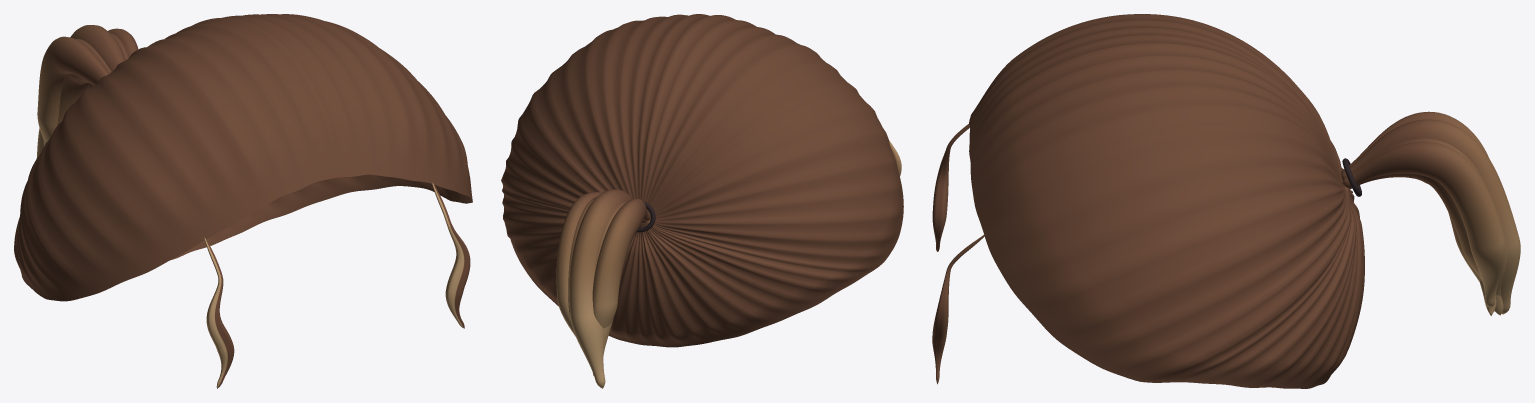
The model's file is Ombre-16ae3440c514253-hair.glb.
3 renders of one model, left to right at view 1: azimuth 30°, elevation 25°; view 2: azimuth 150°, elevation 25°; view 3: azimuth 270°, elevation 25°, orthographic. The views are drawn at different scales.
Parts seen in each view (by area): view 1: Hair / swept roots220, Hair / rounded tail220 0, Hair / adjustable front216 1, Hair / adjustable front216 -1, Hair / rounded tail220 2, Hair / rounded tail220 1; view 2: Hair / swept roots220, Hair / rounded tail220 2, Hair / rounded tail220 0, Hair / rounded tail220 4, Hair / rounded tail220 1; view 3: Hair / swept roots220, Hair / rounded tail220 4, Hair / rounded tail220 2, Hair / rounded tail220 3, Hair / adjustable front216 1, Hair / adjustable front216 -1, Hair / rounded tail220 0.
Part boxes in pixels (left/top/right/bottom): Hair / swept roots220: left=14, top=14, right=472, bottom=301; Hair / rounded tail220 0: left=37, top=36, right=108, bottom=142; Hair / adjustable front216 1: left=432, top=182, right=470, bottom=328; Hair / adjustable front216 -1: left=204, top=238, right=234, bottom=388; Hair / rounded tail220 2: left=36, top=25, right=125, bottom=158; Hair / rounded tail220 1: left=43, top=38, right=111, bottom=146; Hair / swept roots220: left=501, top=14, right=903, bottom=347; Hair / rounded tail220 2: left=569, top=189, right=632, bottom=388; Hair / rounded tail220 0: left=592, top=198, right=650, bottom=375; Hair / rounded tail220 4: left=556, top=192, right=601, bottom=336; Hair / rounded tail220 1: left=594, top=200, right=646, bottom=353; Hair / swept roots220: left=969, top=14, right=1364, bottom=388; Hair / rounded tail220 4: left=1343, top=141, right=1506, bottom=306; Hair / rounded tail220 2: left=1341, top=119, right=1520, bottom=314; Hair / rounded tail220 3: left=1343, top=138, right=1507, bottom=296; Hair / adjustable front216 1: left=932, top=233, right=985, bottom=384; Hair / adjustable front216 -1: left=932, top=124, right=969, bottom=251; Hair / rounded tail220 0: left=1341, top=111, right=1496, bottom=315.
Size of the model in its own units: 0.9758 by 0.6634 by 1.1.
Materials: 9 (8 with a texture image).
